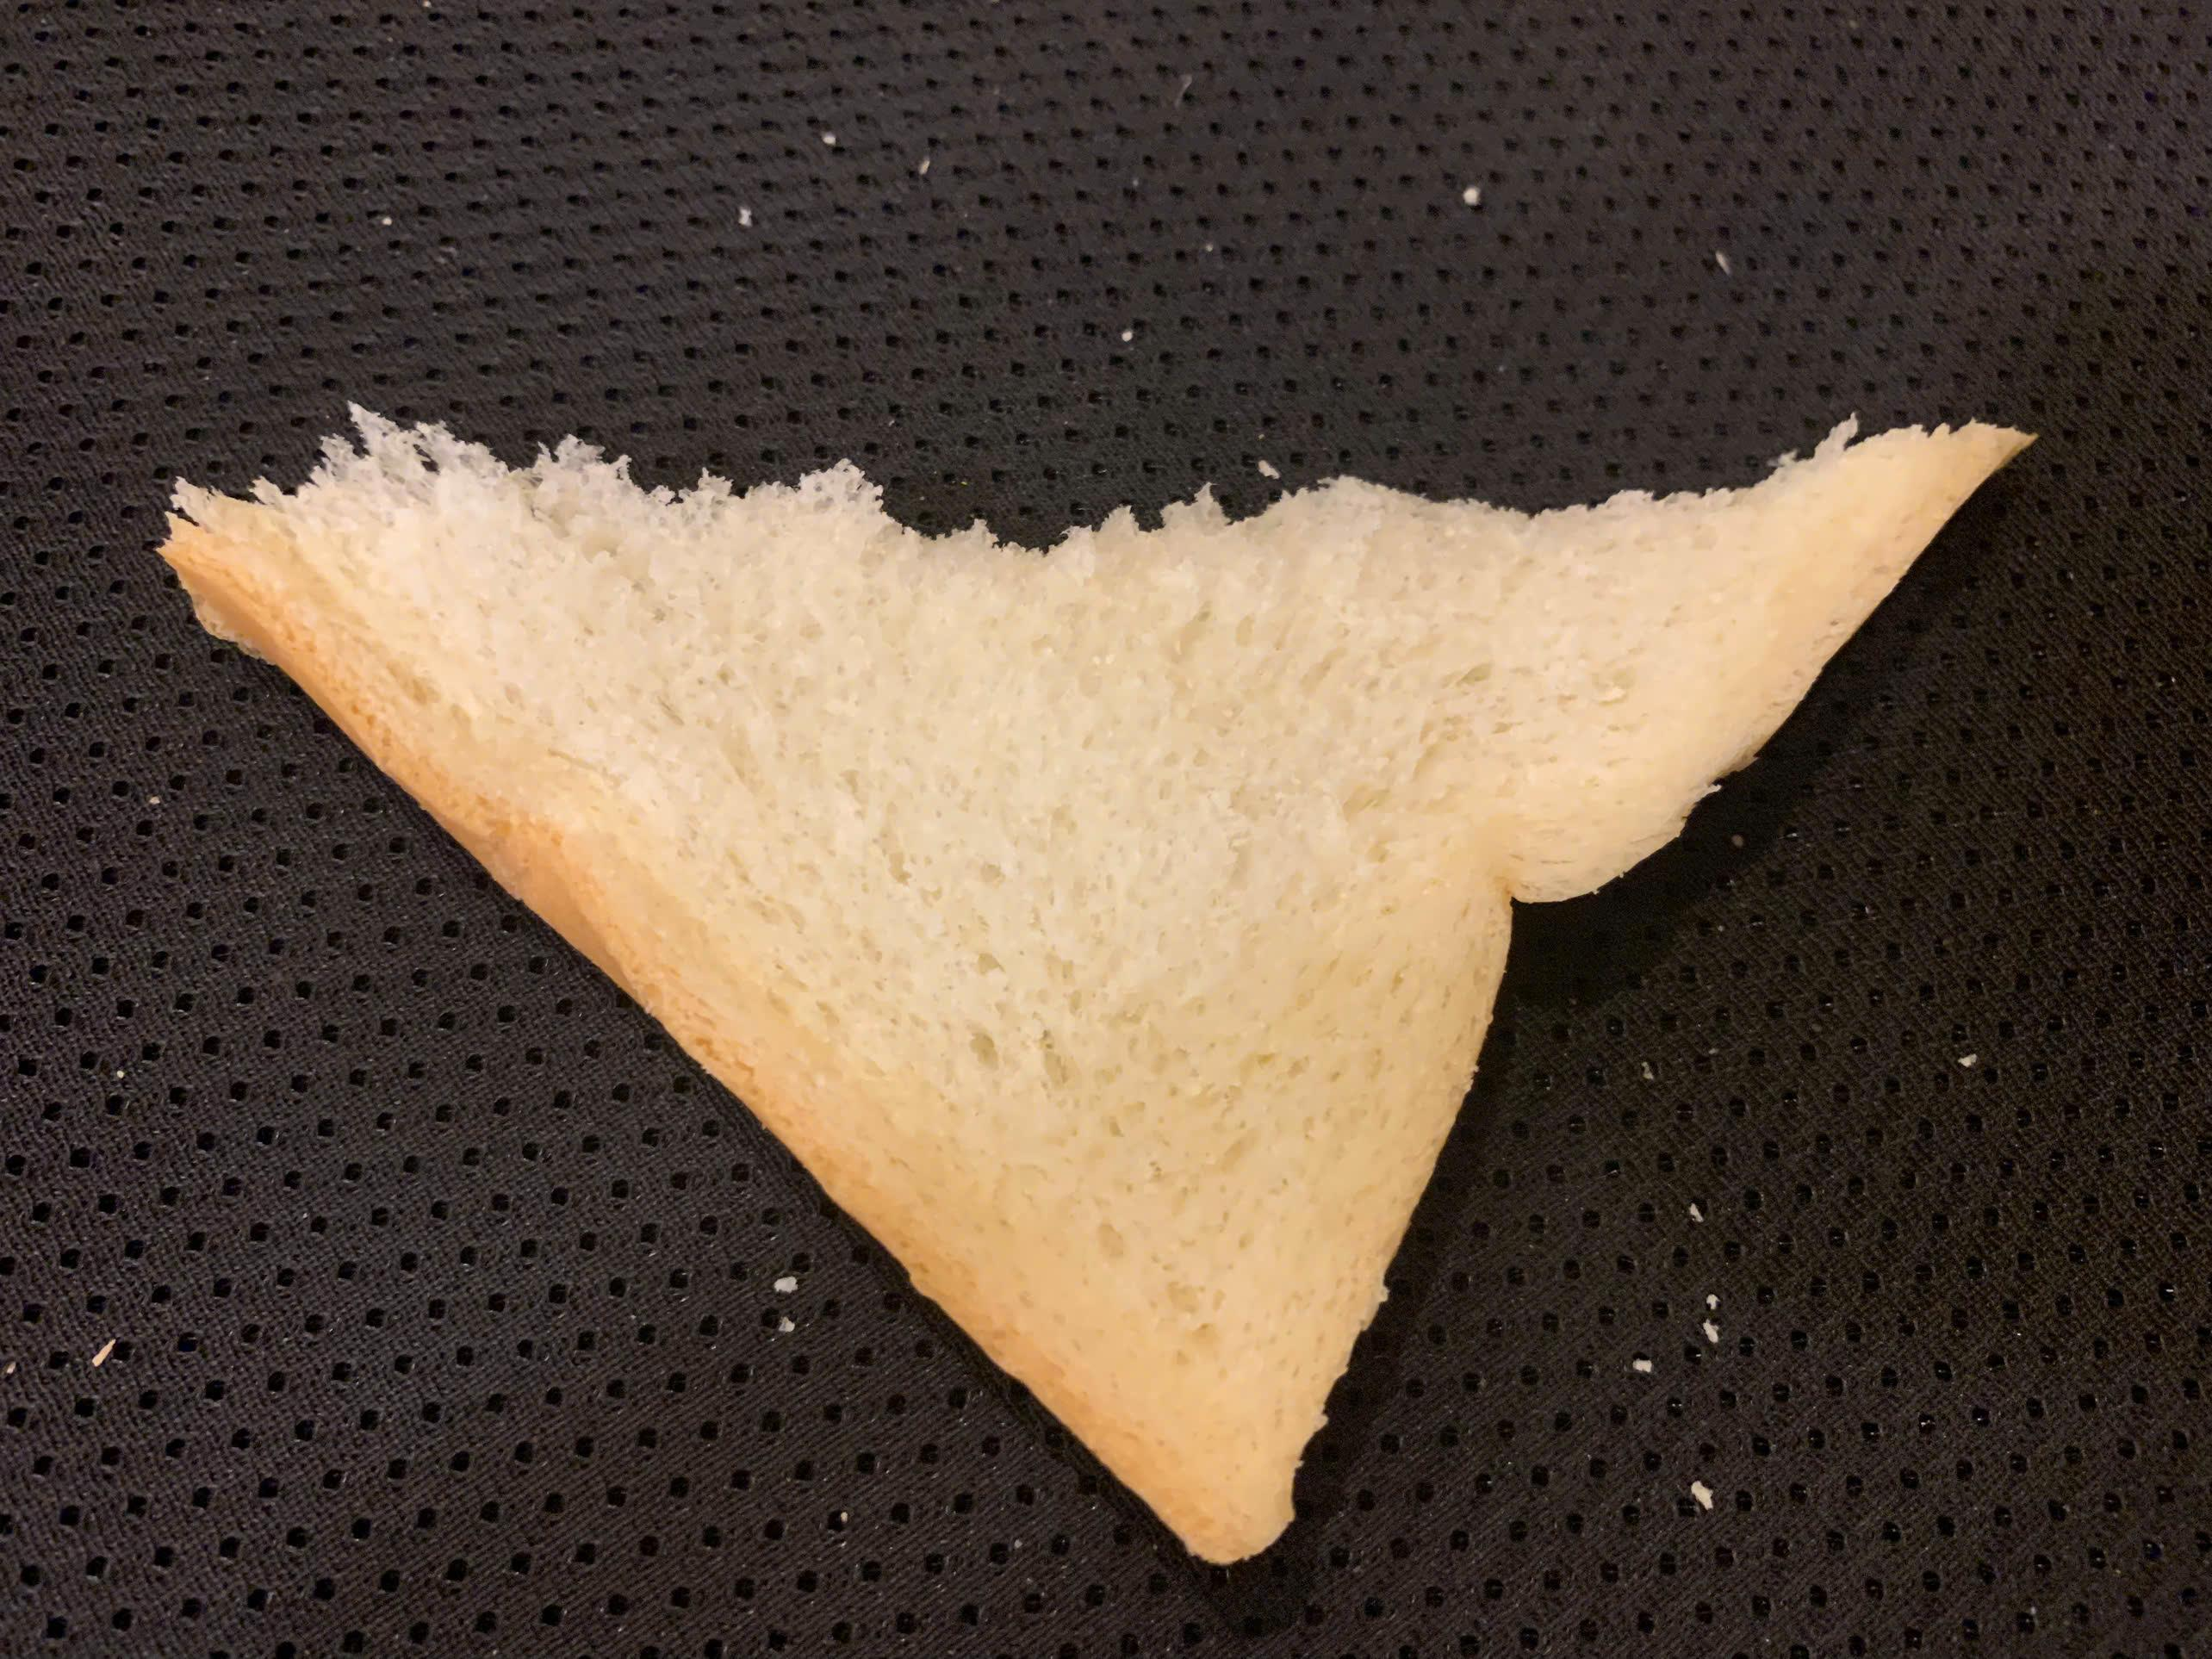Huu co: (167, 423, 2024, 1556)
